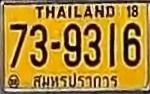1: (109, 23, 114, 66)
3: (83, 23, 100, 66), (29, 23, 46, 66)
6: (122, 22, 142, 67)
7: (9, 23, 27, 67)
9: (63, 23, 80, 66)
SPK: (31, 72, 120, 88)
